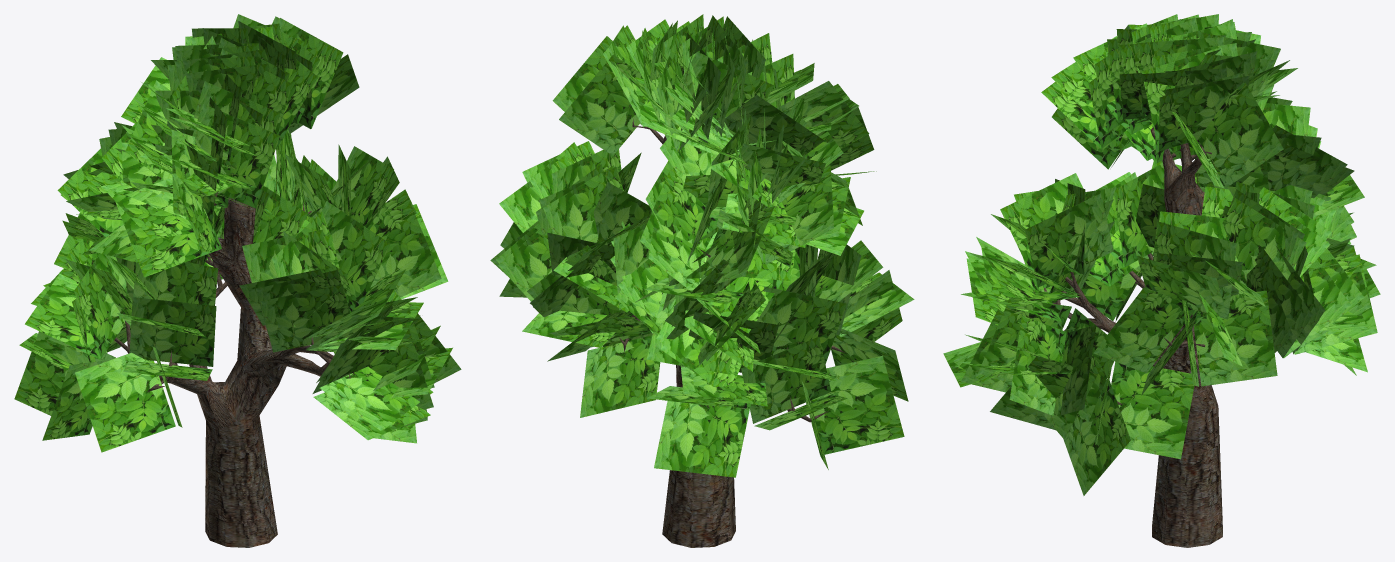
3 views of the same model, side by side, from view 1: azimuth 30°, elevation 25°; view 2: azimuth 150°, elevation 25°; view 3: azimuth 270°, elevation 25° (orthographic). The views are drawn at different scales.
Parts seen in each view (by area): view 1: twig, tree; view 2: twig, tree; view 3: twig, tree.
Boxes of the visible parts, x1,y1,x2,y2 form: twig: (14, 14, 461, 452); tree: (114, 192, 354, 547); twig: (490, 14, 914, 477); tree: (619, 119, 844, 547); twig: (943, 14, 1380, 495); tree: (1044, 127, 1222, 547).
Bounding box in the file's own units: 5.07 × 4.77 × 6.11.
2 materials, 2 textured.
